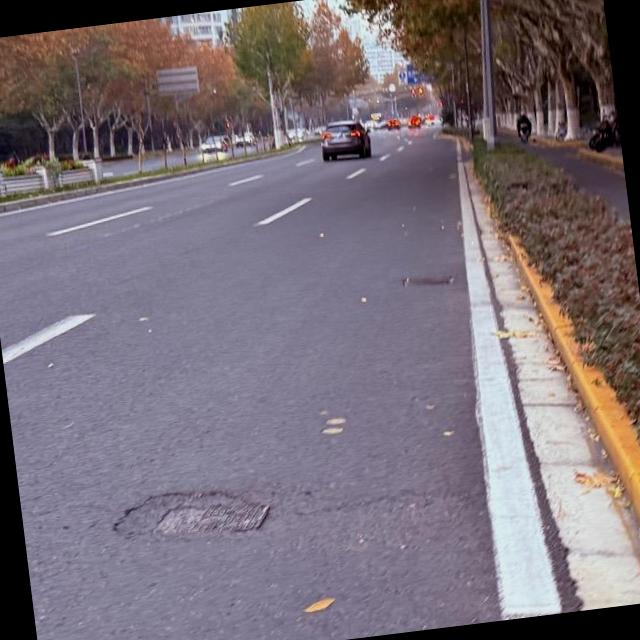curb: (502, 233, 640, 525), (0, 156, 269, 214), (531, 135, 623, 172)
